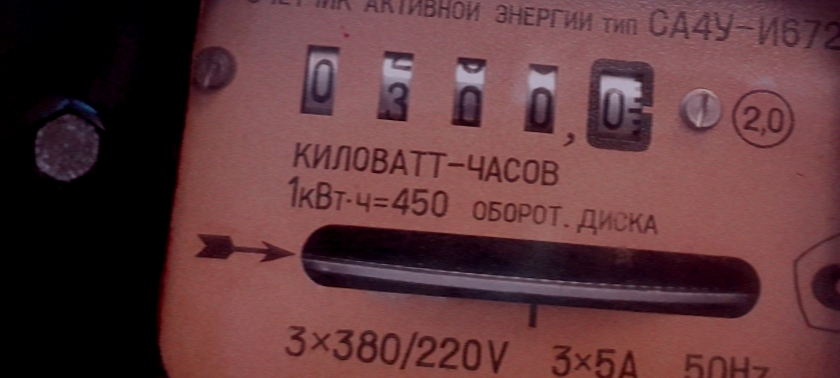0: (307, 55, 337, 109), (597, 86, 629, 136), (523, 86, 555, 134), (453, 82, 483, 132)
3: (380, 79, 412, 124)
screen: (278, 28, 666, 164)
